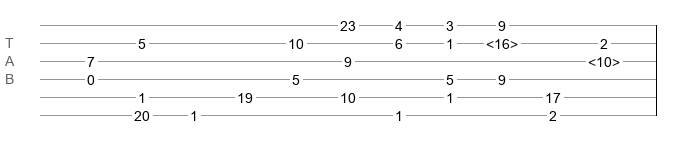0: (87, 72, 95, 82)
1: (138, 90, 146, 100), (190, 108, 198, 118), (395, 108, 403, 118), (446, 36, 454, 46), (446, 90, 454, 100)
10: (288, 36, 304, 46), (340, 90, 356, 100)
17: (545, 90, 561, 100)
19: (237, 90, 253, 100)
2: (549, 108, 557, 118), (600, 36, 608, 46)
20: (134, 108, 150, 118)
23: (340, 18, 356, 28)
3: (446, 18, 454, 28)
4: (395, 18, 403, 28)
5: (138, 36, 146, 46), (292, 72, 300, 82), (446, 72, 454, 82)
6: (395, 36, 403, 46)
7: (87, 54, 95, 64)
9: (344, 54, 352, 64), (498, 72, 506, 82), (498, 18, 506, 28)
harmonic: (486, 36, 518, 46), (588, 54, 620, 64)
